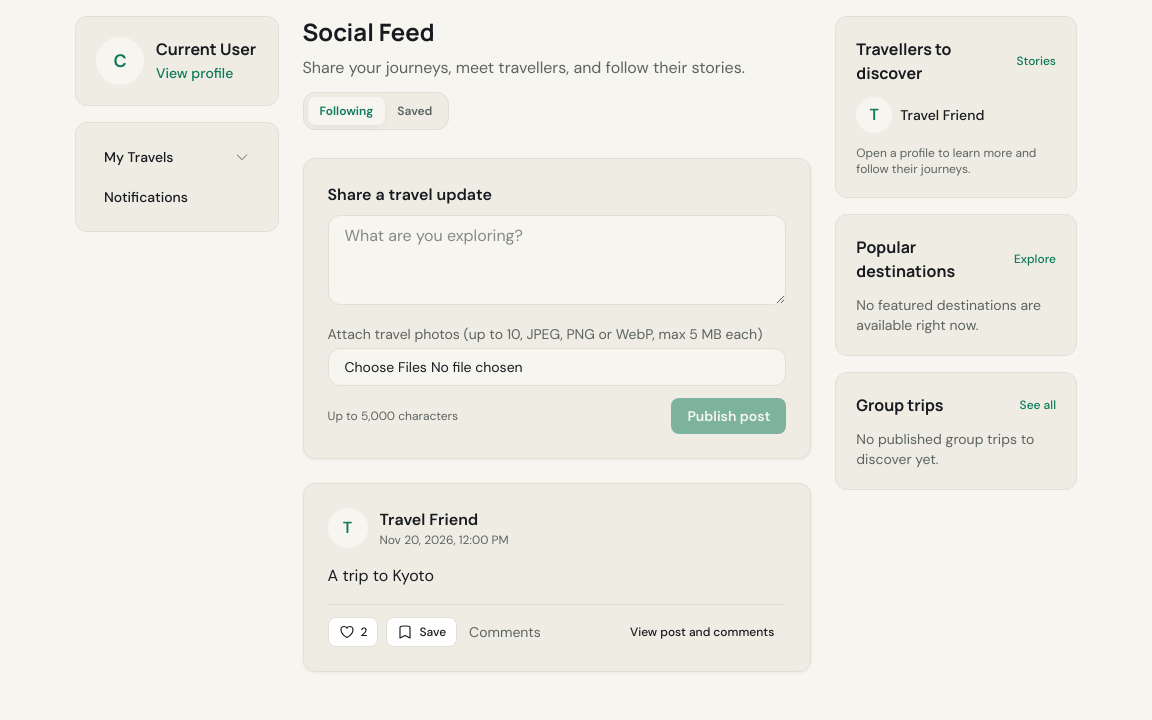
Test: SocialFeed › switches to Saved posts, supports pagination, and rolls back failed unsave removals
Expected: the text "A trip to Kyoto" is shown, [328, 565, 434, 586]
Click the tab "Saved": (415, 111) [385, 97, 444, 125]
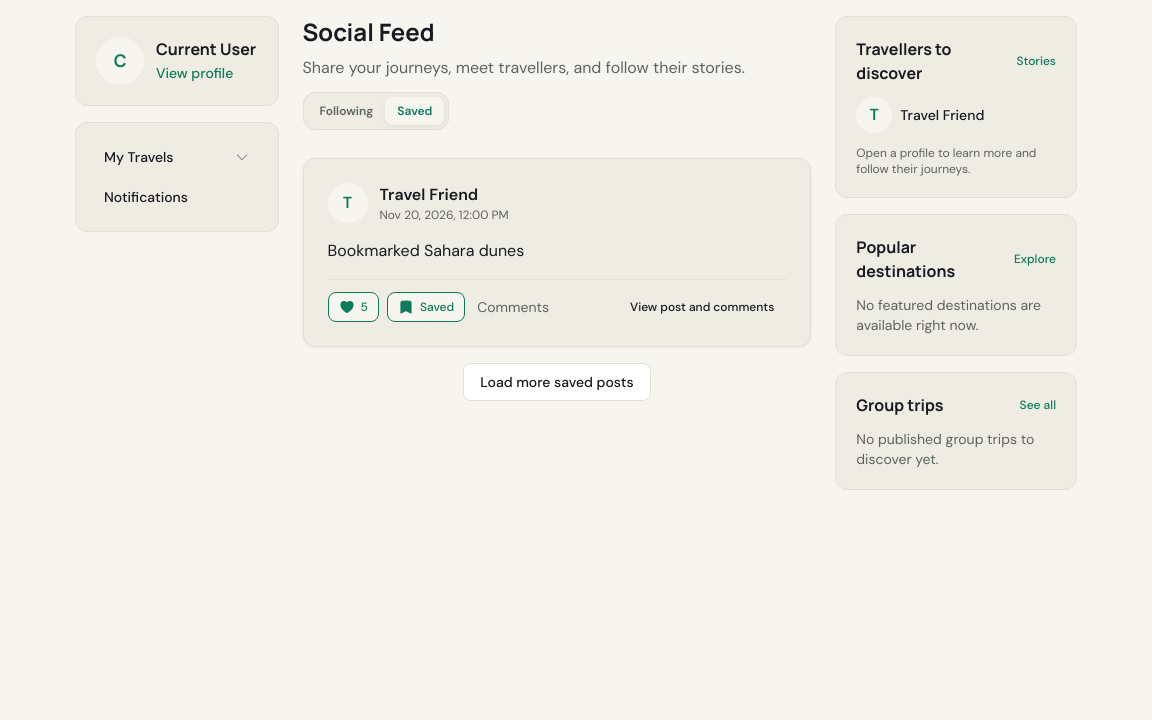
Expected: the text "Bookmarked Sahara dunes" is shown, [328, 240, 524, 261]
Click the button "Load more saved posts": (557, 382) [463, 363, 651, 401]
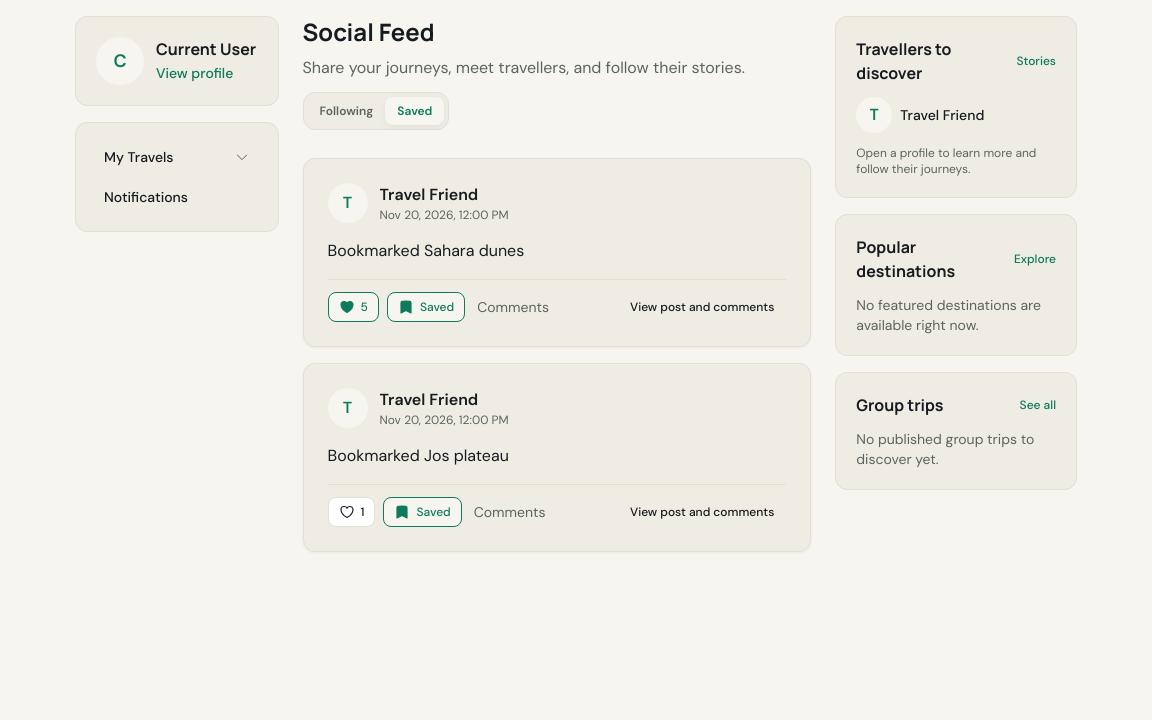
Expected: the text "Bookmarked Jos plateau" is shown, [328, 445, 509, 466]
Click the button with aria-label "Remove saved post": (426, 307) [387, 292, 465, 322]
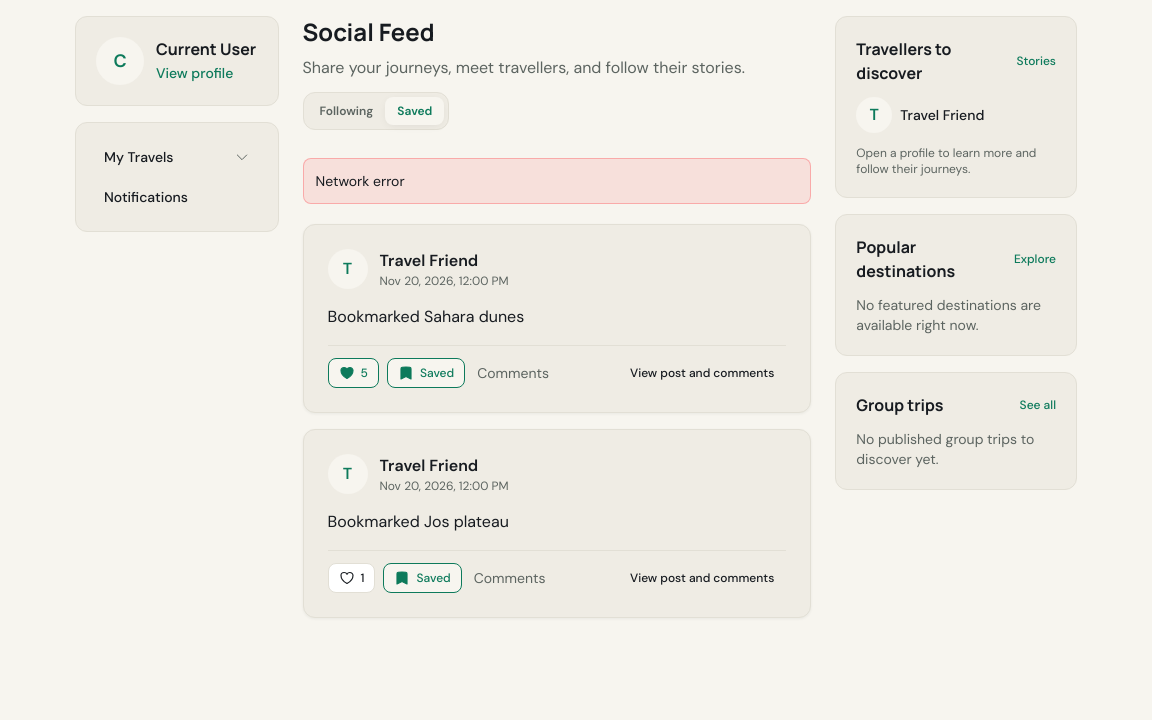
Expected: the text "Bookmarked Sahara dunes" is shown, [328, 306, 524, 327]
Expected: the message "Network error" is shown, [302, 158, 811, 204]
